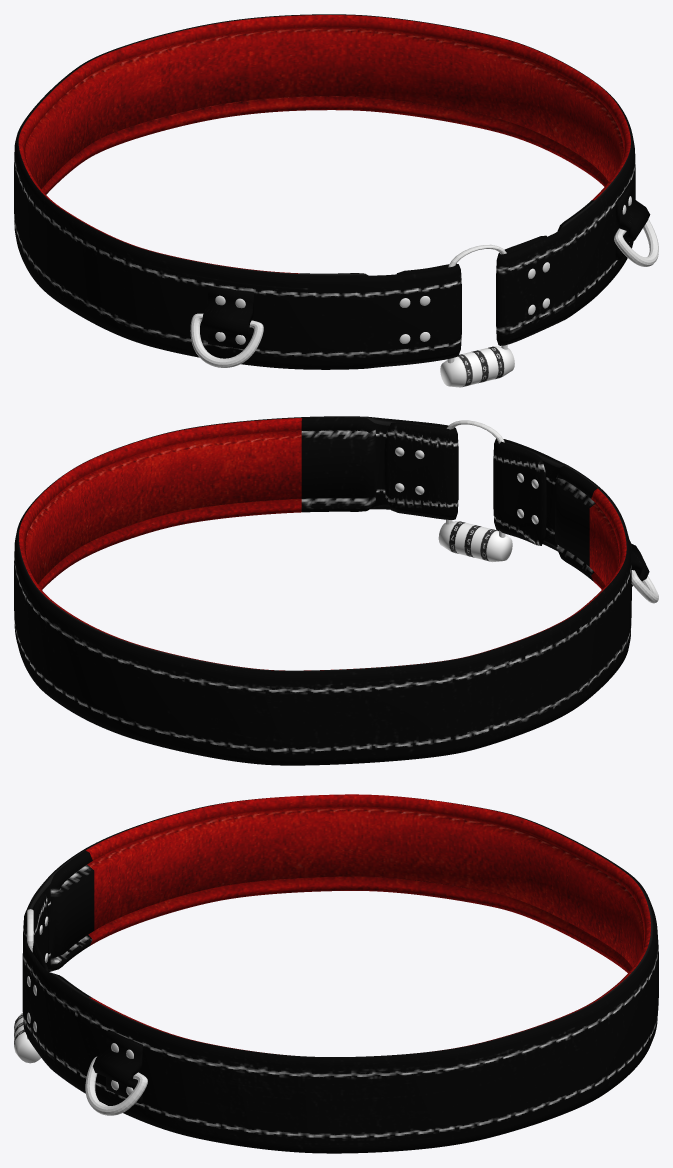
Rendered from collar.glb.
The picture shows the model from 3 angles, top to bottom: view 1: azimuth 30°, elevation 25°; view 2: azimuth 150°, elevation 25°; view 3: azimuth 270°, elevation 25°; orthographic projection. The views are drawn at different scales.
Parts seen in each view (by area): view 1: collar_2; view 2: collar_2; view 3: collar_2.
Boxes of the visible parts, left/top/right/bottom form: collar_2: left=14, top=14, right=658, bottom=387; collar_2: left=14, top=416, right=658, bottom=765; collar_2: left=14, top=794, right=658, bottom=1153.
Bounding box in the file's own units: 9.81 × 2.38 × 10.12.
Materials: 4 (3 with a texture image).
